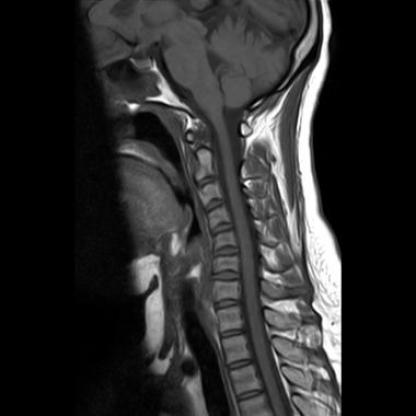Disc Bulgerotation: (210, 266, 243, 285), (211, 242, 243, 260), (210, 221, 237, 238)
